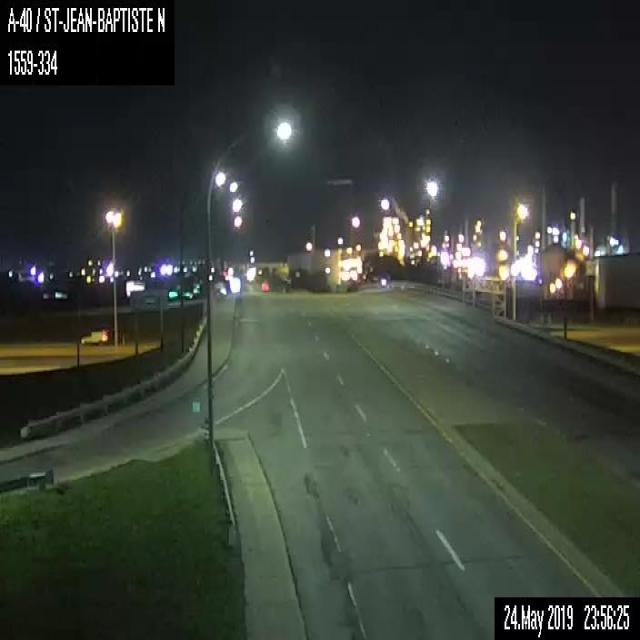vehicle: (78, 328, 108, 343), (261, 281, 269, 292)
